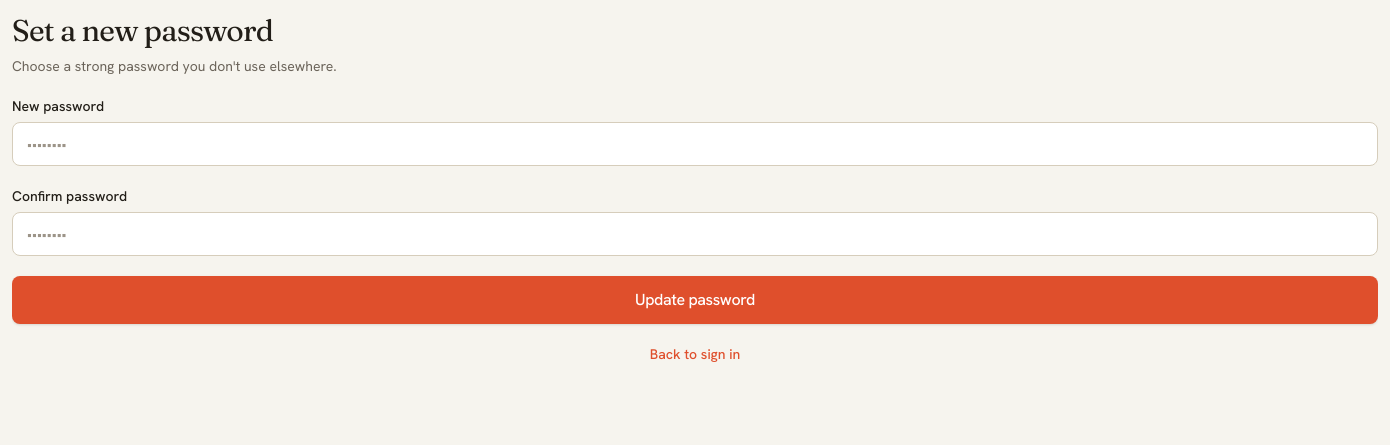
it: ResetPasswordForm › shows a server error for an expired or used token
Type "secret123" into the password field labelled "New password".
click(695, 144); type("secret123")  # box [12, 122, 1378, 166]
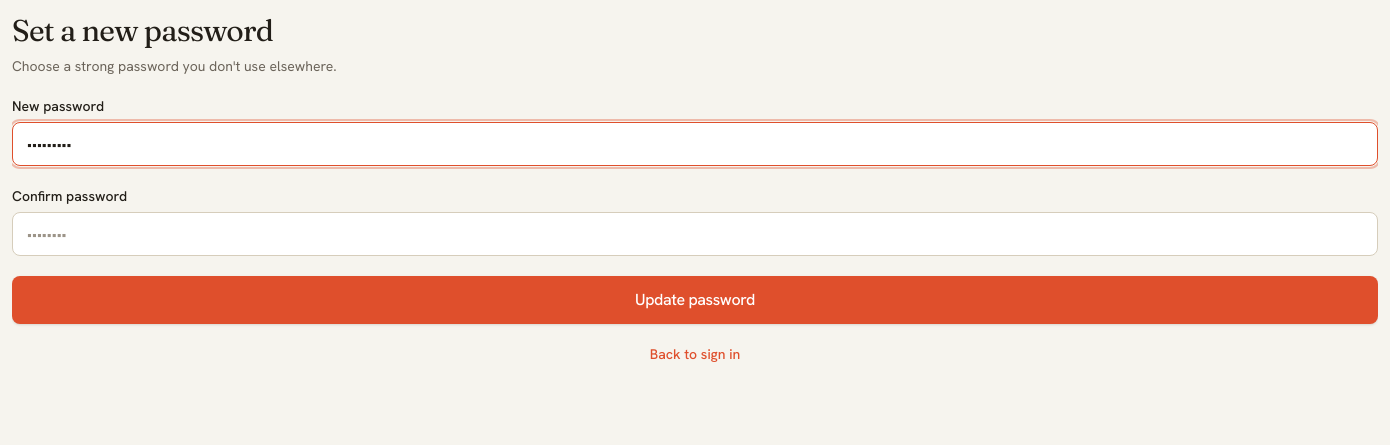
Type "secret123" into the password field labelled "Confirm password".
click(695, 234); type("secret123")  # box [12, 212, 1378, 256]
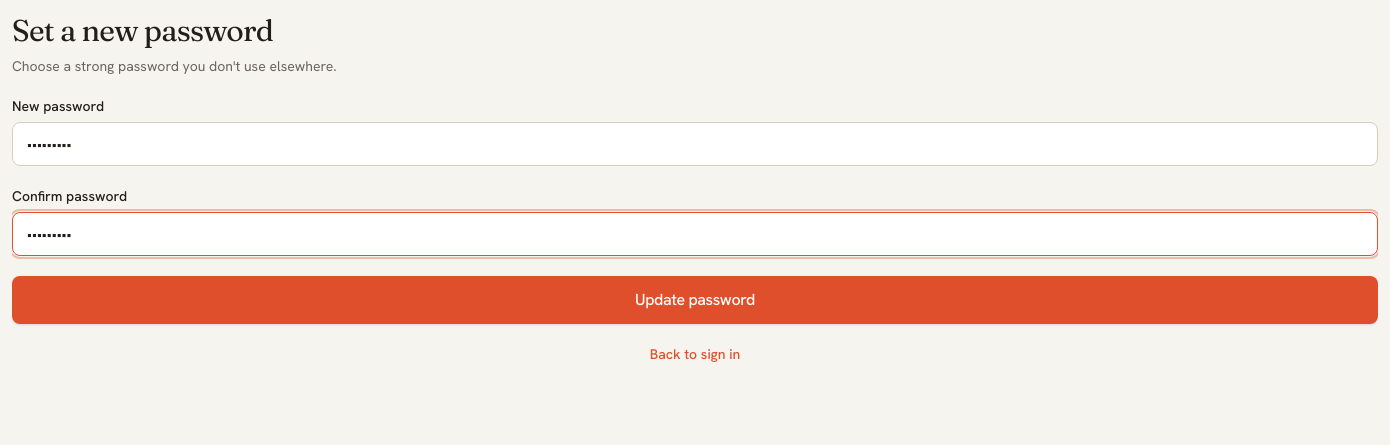
Click the button "Update password".
click(695, 300)  # box [12, 276, 1378, 324]
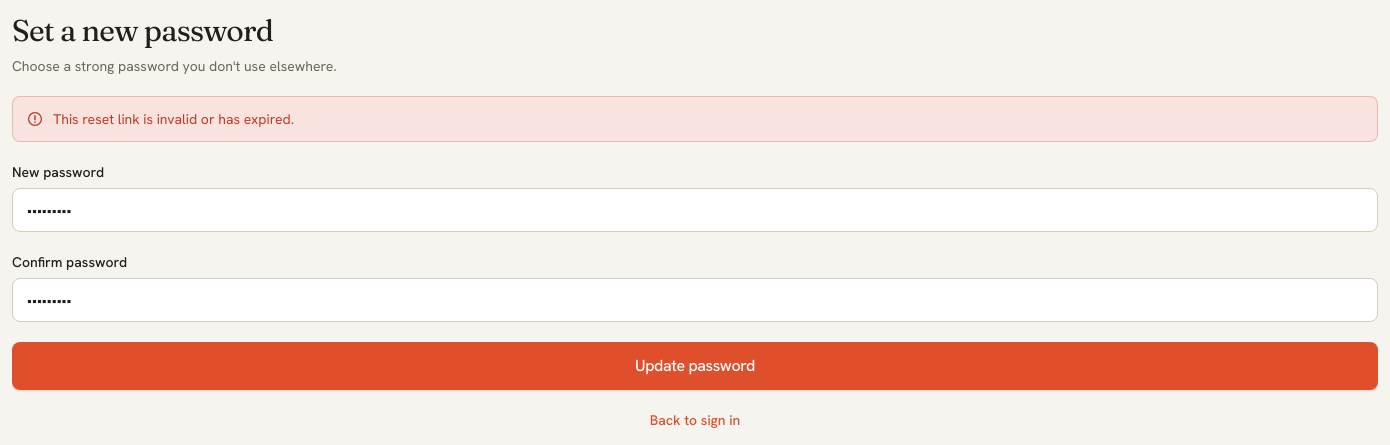
Check: the message reads "This reset link is invalid or has expired.", box [53, 110, 294, 128]
